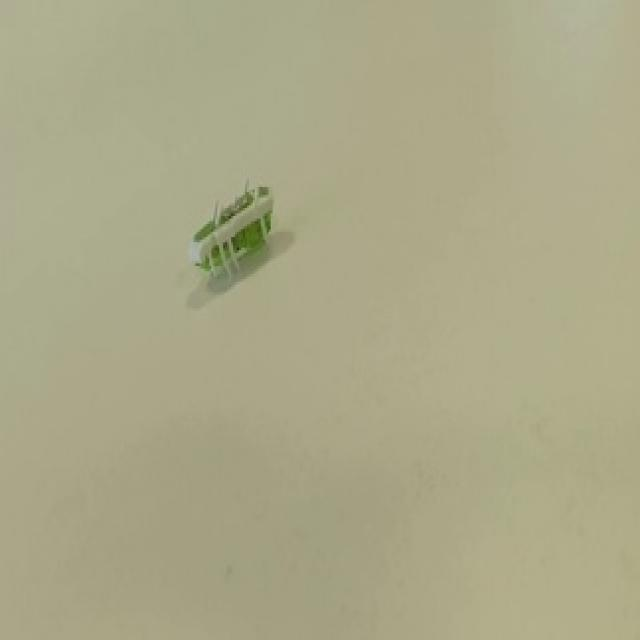4_NanoBug_Blanco: (172, 157, 301, 320)
